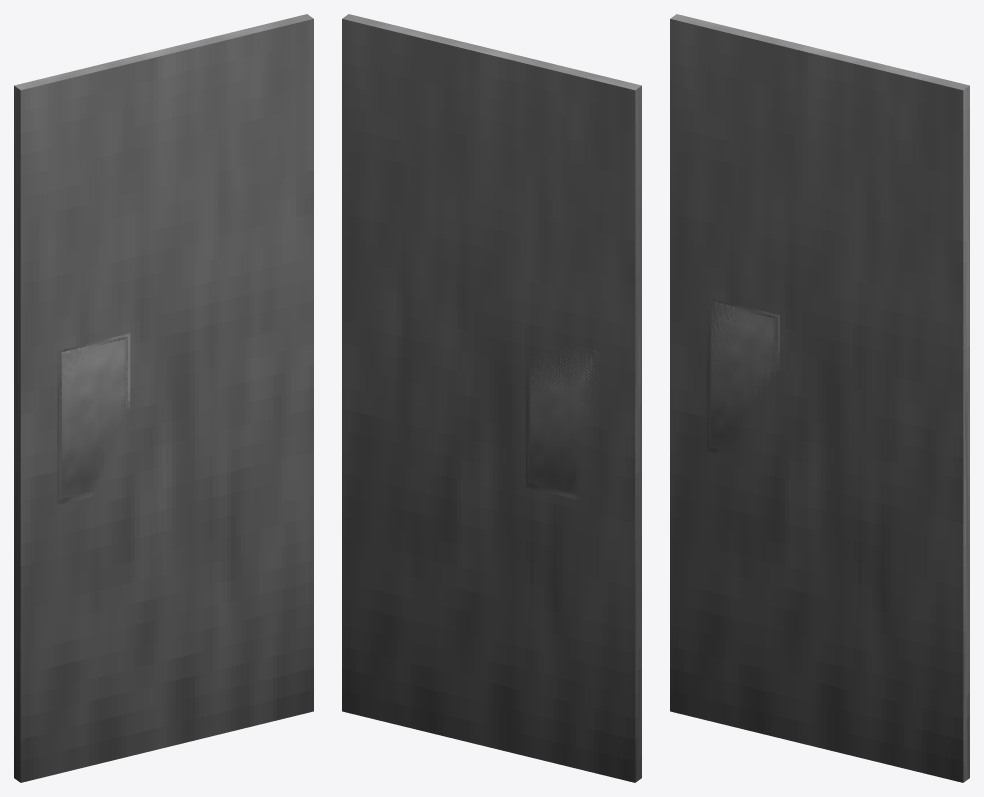
Rendered from primary_230.glb.
3 renders of one model, left to right at view 1: azimuth 30°, elevation 25°; view 2: azimuth 150°, elevation 25°; view 3: azimuth 330°, elevation 25°, orthographic.
Parts seen in each view (by area): view 1: Object; view 2: Object; view 3: Object.
Part boxes in pixels (left/top/right/bottom): Object: left=14, top=14, right=313, bottom=782; Object: left=342, top=14, right=641, bottom=782; Object: left=670, top=14, right=969, bottom=782.
Size of the model in its own units: 1.2 by 2.71 by 0.0469.
Materials: 4 (4 with a texture image).
